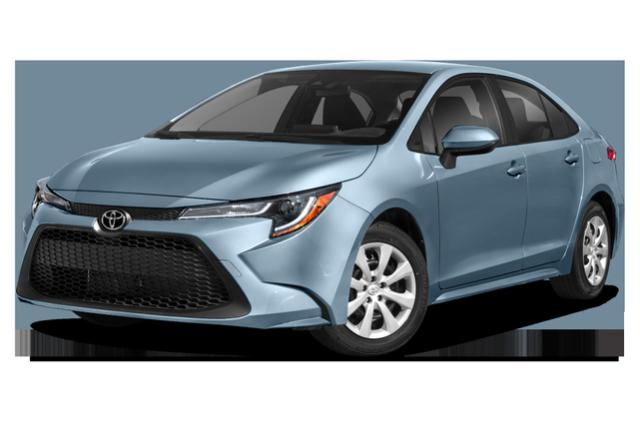toyota: (15, 61, 625, 358)
